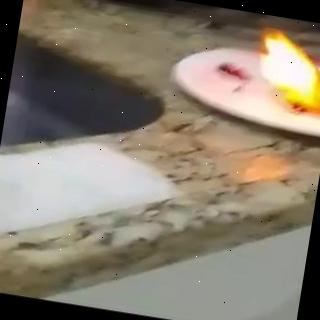fire: (244, 23, 320, 127)
